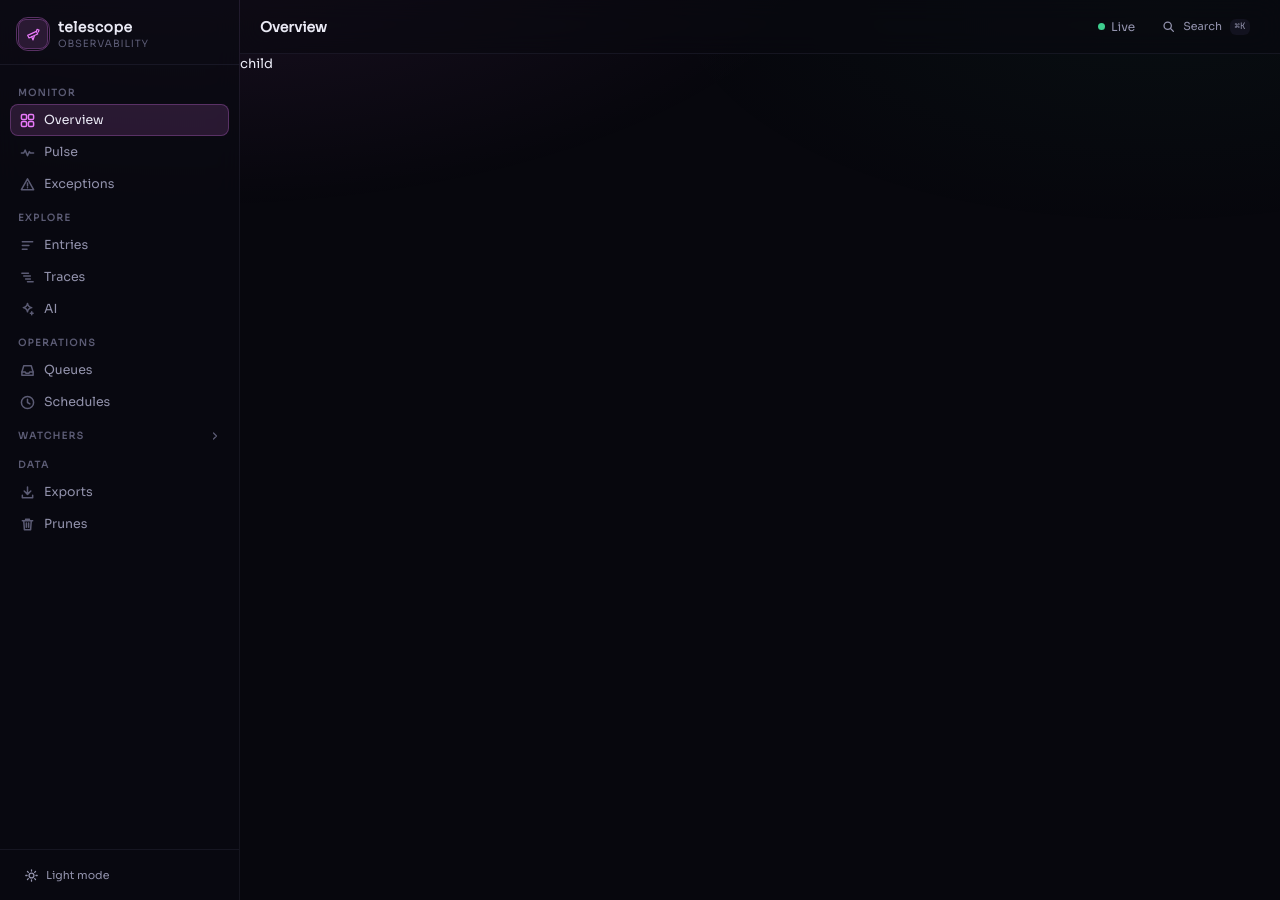
Test: DashboardLayout › hides Watchers nav items whose watcher meta positively reports as absent
Click the button "Watchers" at (120, 432), box left=10, top=418, right=229, bottom=447
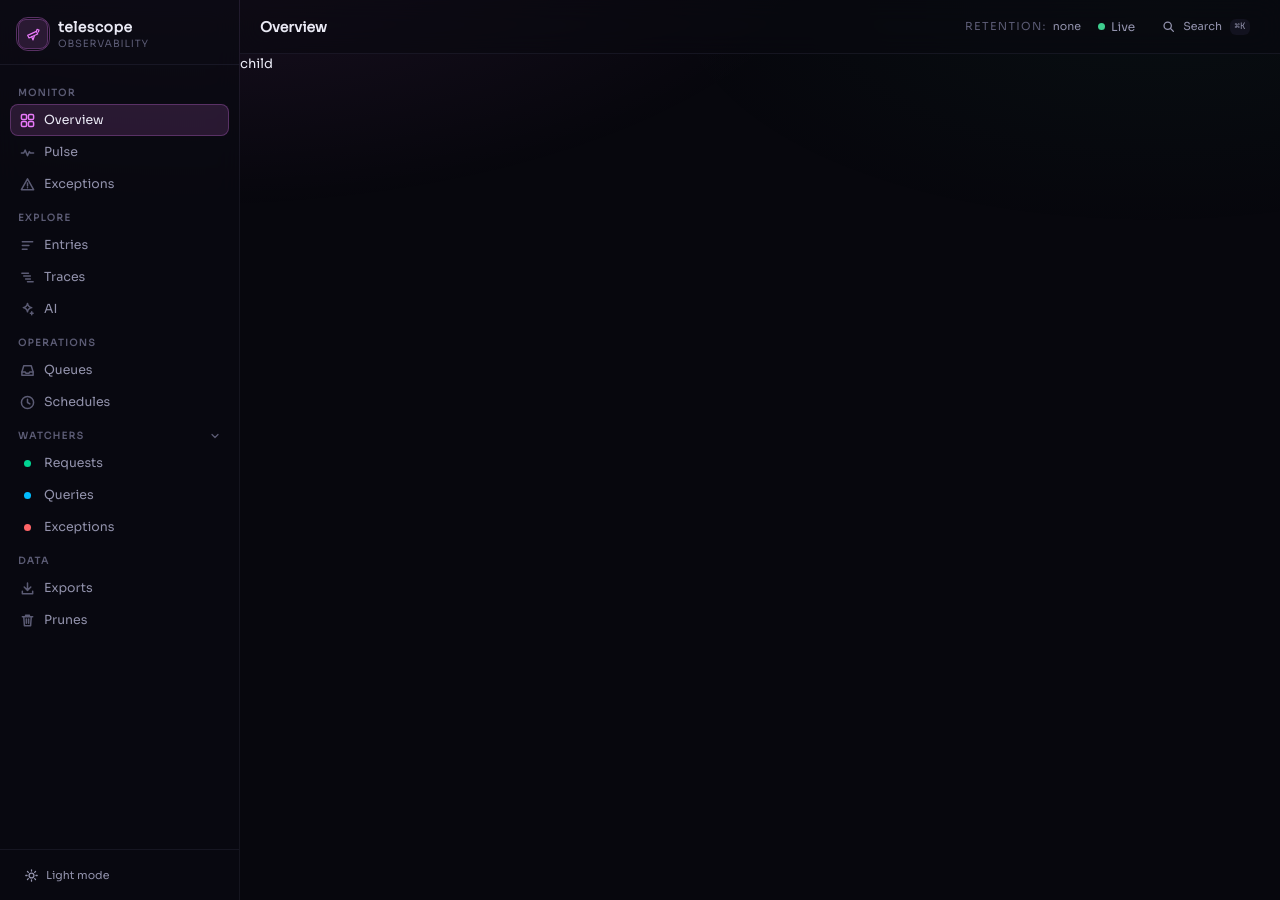
Result: the link "Requests" is shown at left=24, top=455, right=103, bottom=471
Result: the link "Queries" is shown at left=24, top=487, right=94, bottom=503
Result: the link "Exceptions" below "Queries" is shown at left=24, top=519, right=114, bottom=535
